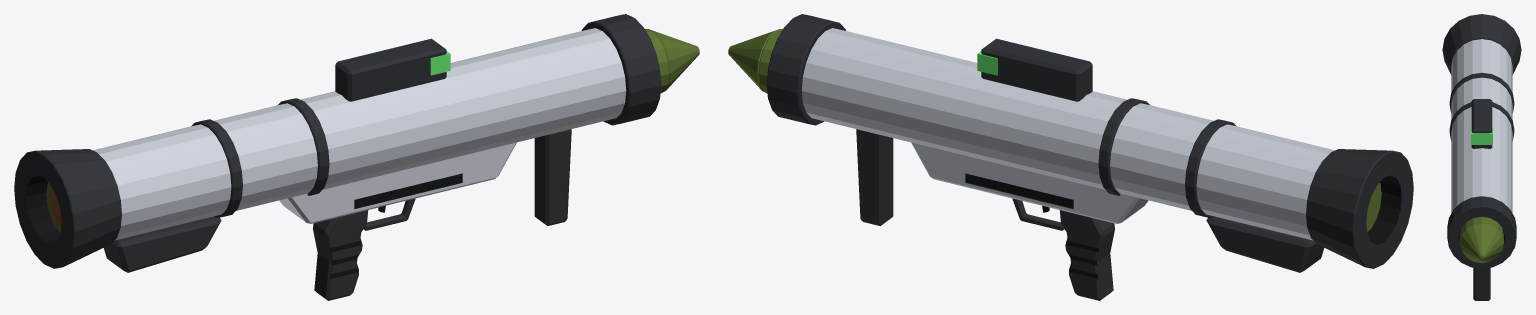
File: rocket_launcher42.obj
3 renders of one model, left to right at view 1: azimuth 30°, elevation 25°; view 2: azimuth 150°, elevation 25°; view 3: azimuth 270°, elevation 25°, orthographic. The views are drawn at different scales.
Visible parts, largest first — view 1: body, mag; view 2: body, mag; view 3: body.
Part boxes in pixels (box(x1,y1,x2,y2)): body: box(14, 14, 699, 300); mag: box(28, 170, 61, 250); body: box(728, 14, 1413, 300); mag: box(1366, 170, 1399, 232); body: box(1442, 14, 1521, 300).
Bounding box in the file's own units: 0.726 × 0.239 × 0.1166.
